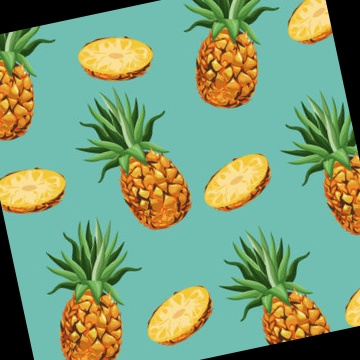Pineapple: (79, 86, 192, 230), (46, 220, 141, 360), (187, 1, 274, 109)
